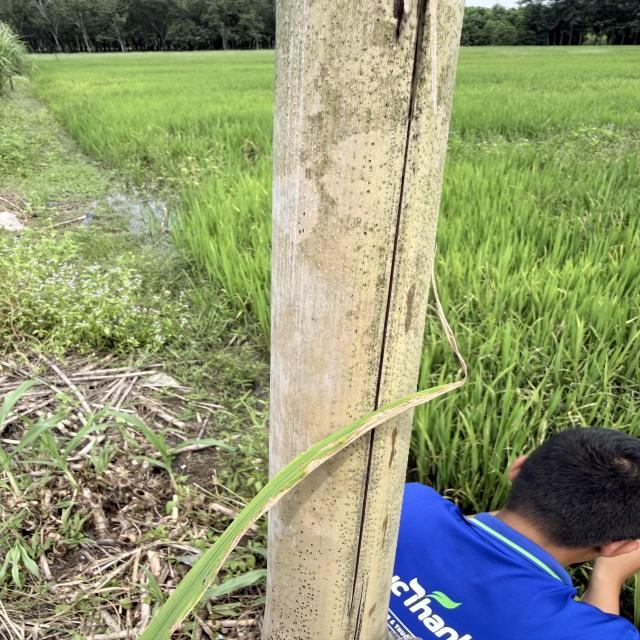Chay bia la: (182, 277, 470, 625)
